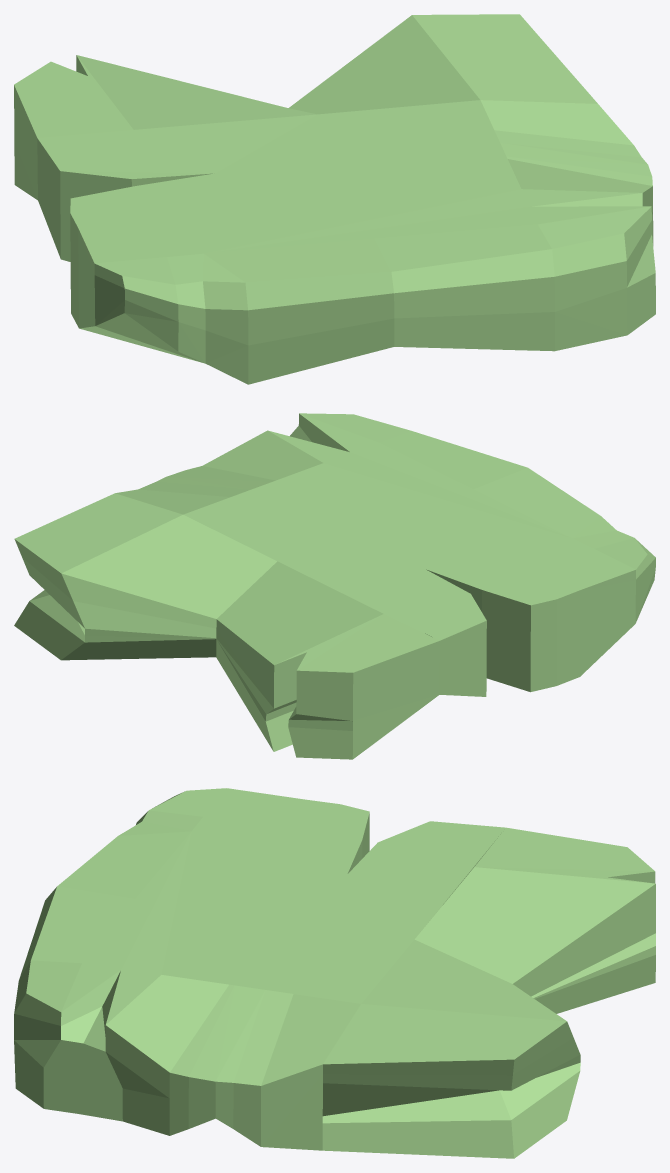
3 renders of one model, top to bottom at view 1: azimuth 30°, elevation 25°; view 2: azimuth 150°, elevation 25°; view 3: azimuth 270°, elevation 25°, orthographic. The views are drawn at different scales.
Parts seen in each view (by area): view 1: Cube.008; view 2: Cube.008; view 3: Cube.008.
Part boxes in pixels (bbox=[...]): Cube.008: bbox=[14, 14, 655, 384]; Cube.008: bbox=[14, 413, 655, 759]; Cube.008: bbox=[14, 788, 655, 1158].
Bounding box in the file's own units: 126 × 21.82 × 124.
